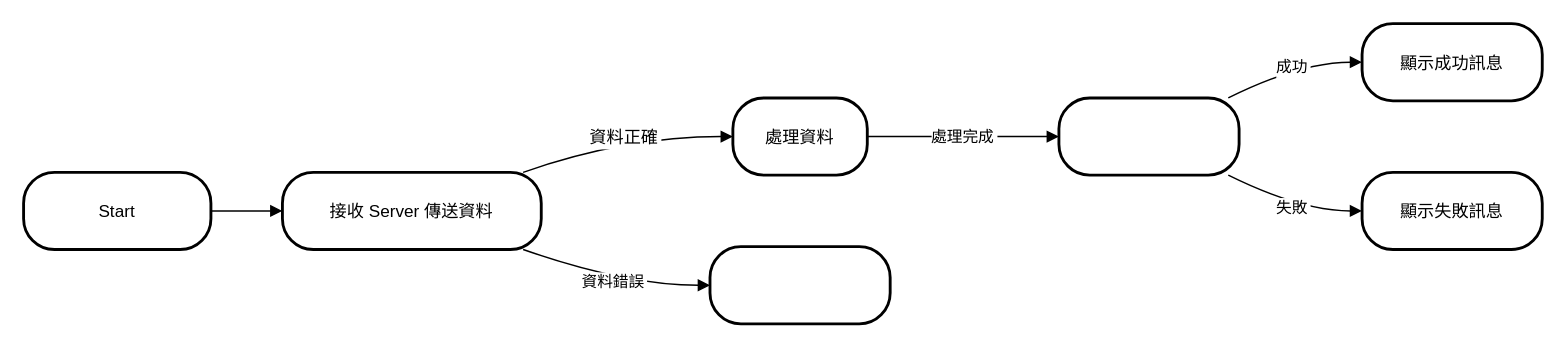
Image size: 1566x347. Some labels were removed from this diagram. Each missing label, with the centre of its shape:
"判斷接收結果" belongs at [1148,136].
"顯示錯誤訊息" belongs at [799,285].
